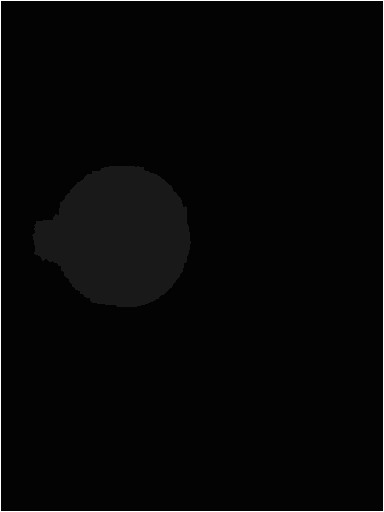speaker: (32, 164, 195, 312)
